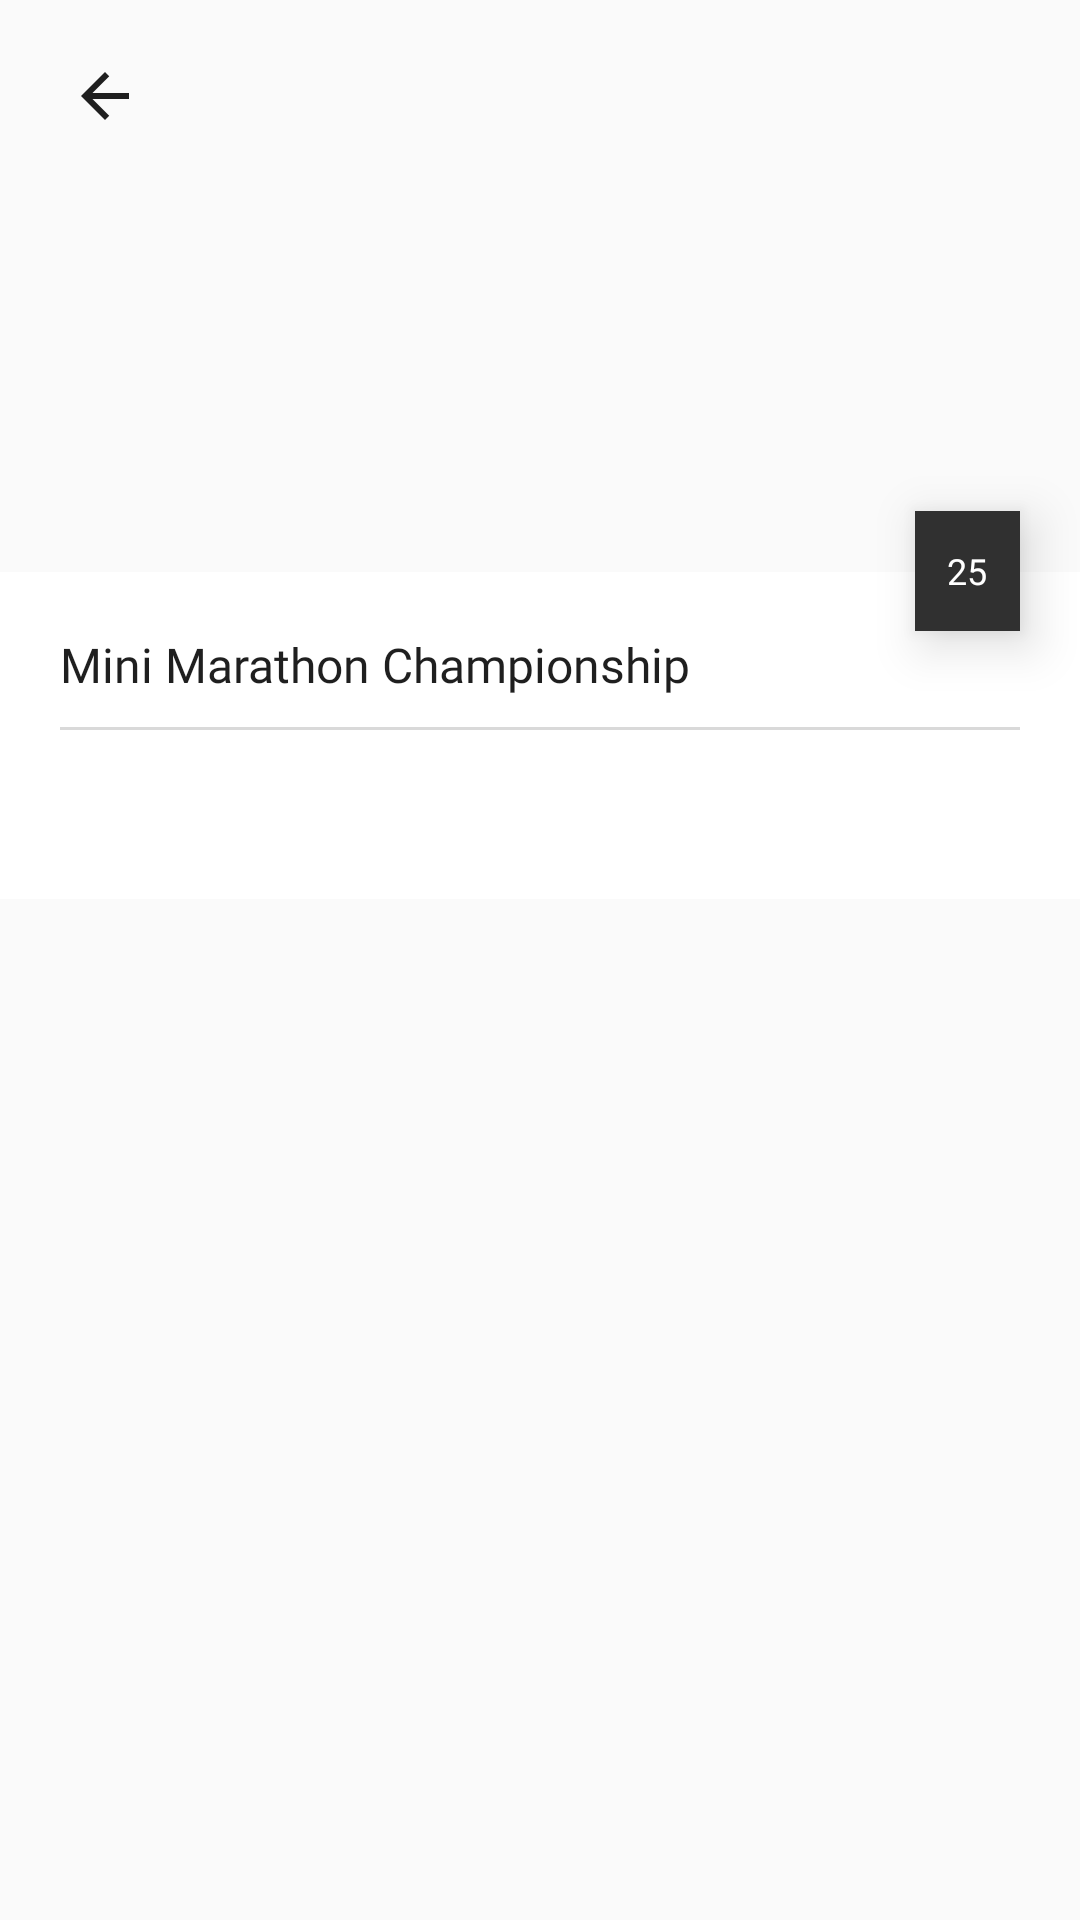

Where to tap for icons on this 1080w x 1920h app screen, as (x=x, y=y):
back: (x=105, y=96)
